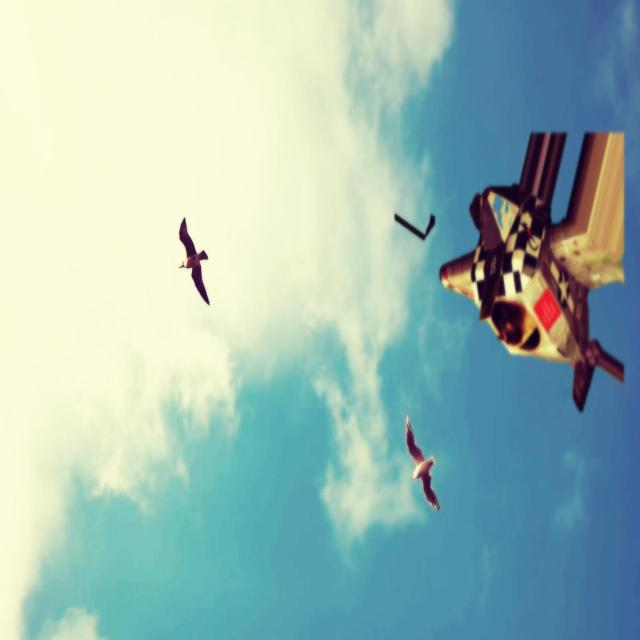airplane: (438, 130, 624, 417)
